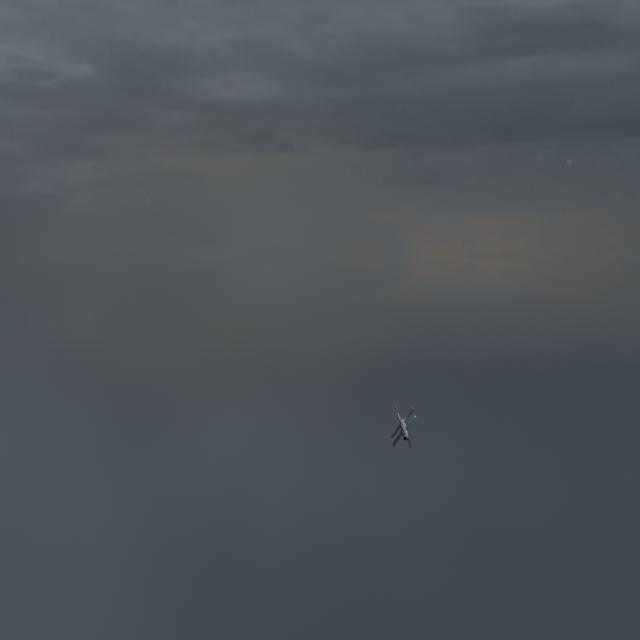Airaplan: (391, 405, 416, 448)
